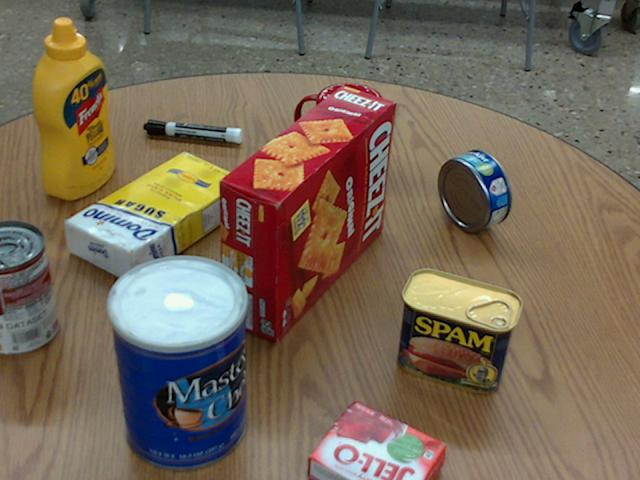cracker_box: (221, 85, 394, 339)
gelatin_box: (307, 400, 447, 479)
large_marker: (144, 119, 241, 142)
master_chef_can: (107, 255, 247, 471)
mug: (296, 83, 383, 176)
mustard_bottle: (34, 19, 113, 199)
potted_meat_can: (397, 267, 522, 392)
sugar_box: (64, 150, 244, 284)
tomato_soup_can: (0, 219, 57, 353)
tuna_fish_can: (437, 149, 510, 230)
